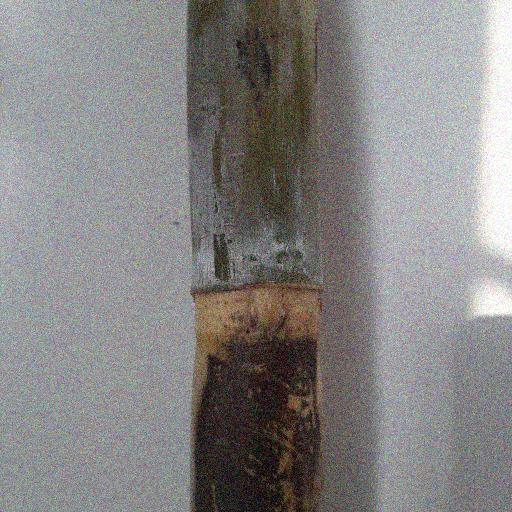Bud: (244, 287, 285, 334)
